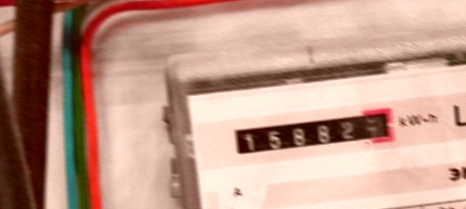1: (241, 132, 255, 152)
2: (340, 120, 353, 140)
5: (266, 129, 280, 150)
7: (365, 125, 377, 140)
8: (291, 126, 305, 148), (316, 124, 330, 146)
screen: (225, 102, 403, 164)
